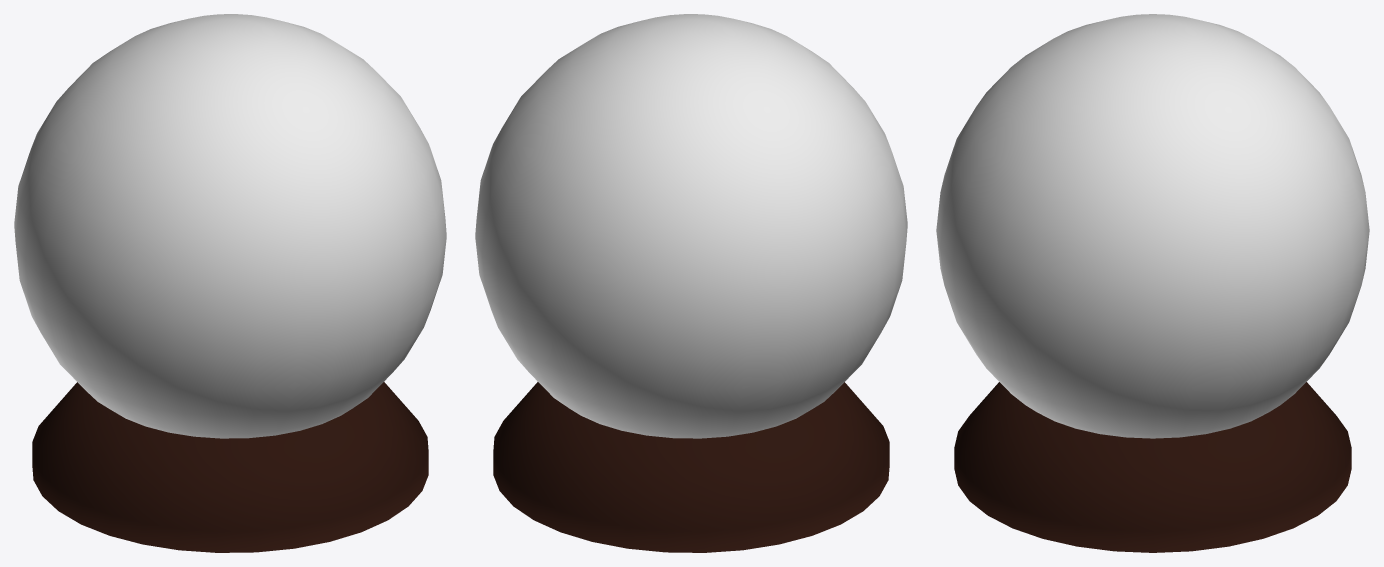
File: Sandclock 4.fbx
3 renders of one model, left to right at view 1: azimuth 30°, elevation 25°; view 2: azimuth 150°, elevation 25°; view 3: azimuth 270°, elevation 25°, orthographic.
Parts seen in each view (by area): view 1: Sphere, Cylinder; view 2: Sphere, Cylinder; view 3: Sphere, Cylinder.
Boxes of the visible parts, bbox=[...] form: Sphere: bbox=[14, 14, 446, 438]; Cylinder: bbox=[32, 382, 428, 552]; Sphere: bbox=[475, 14, 907, 438]; Cylinder: bbox=[493, 382, 889, 552]; Sphere: bbox=[936, 14, 1369, 438]; Cylinder: bbox=[954, 382, 1351, 552].
Size of the model in its own units: 29.99 by 33.95 by 29.99.
